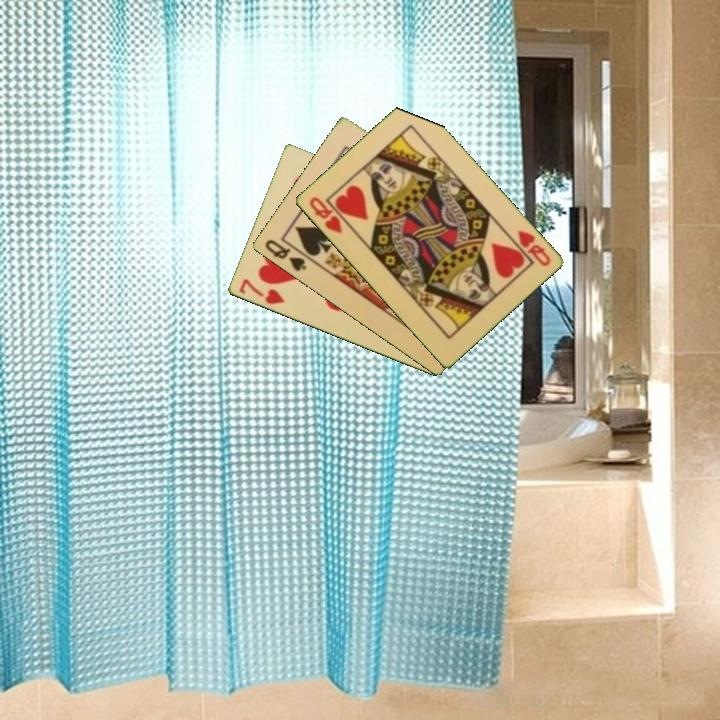7h: (235, 275, 287, 307)
Qh: (305, 193, 345, 236), (513, 226, 553, 269)
Qs: (261, 236, 309, 274)
